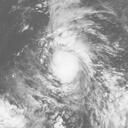cyclone: (31, 27, 97, 106)
